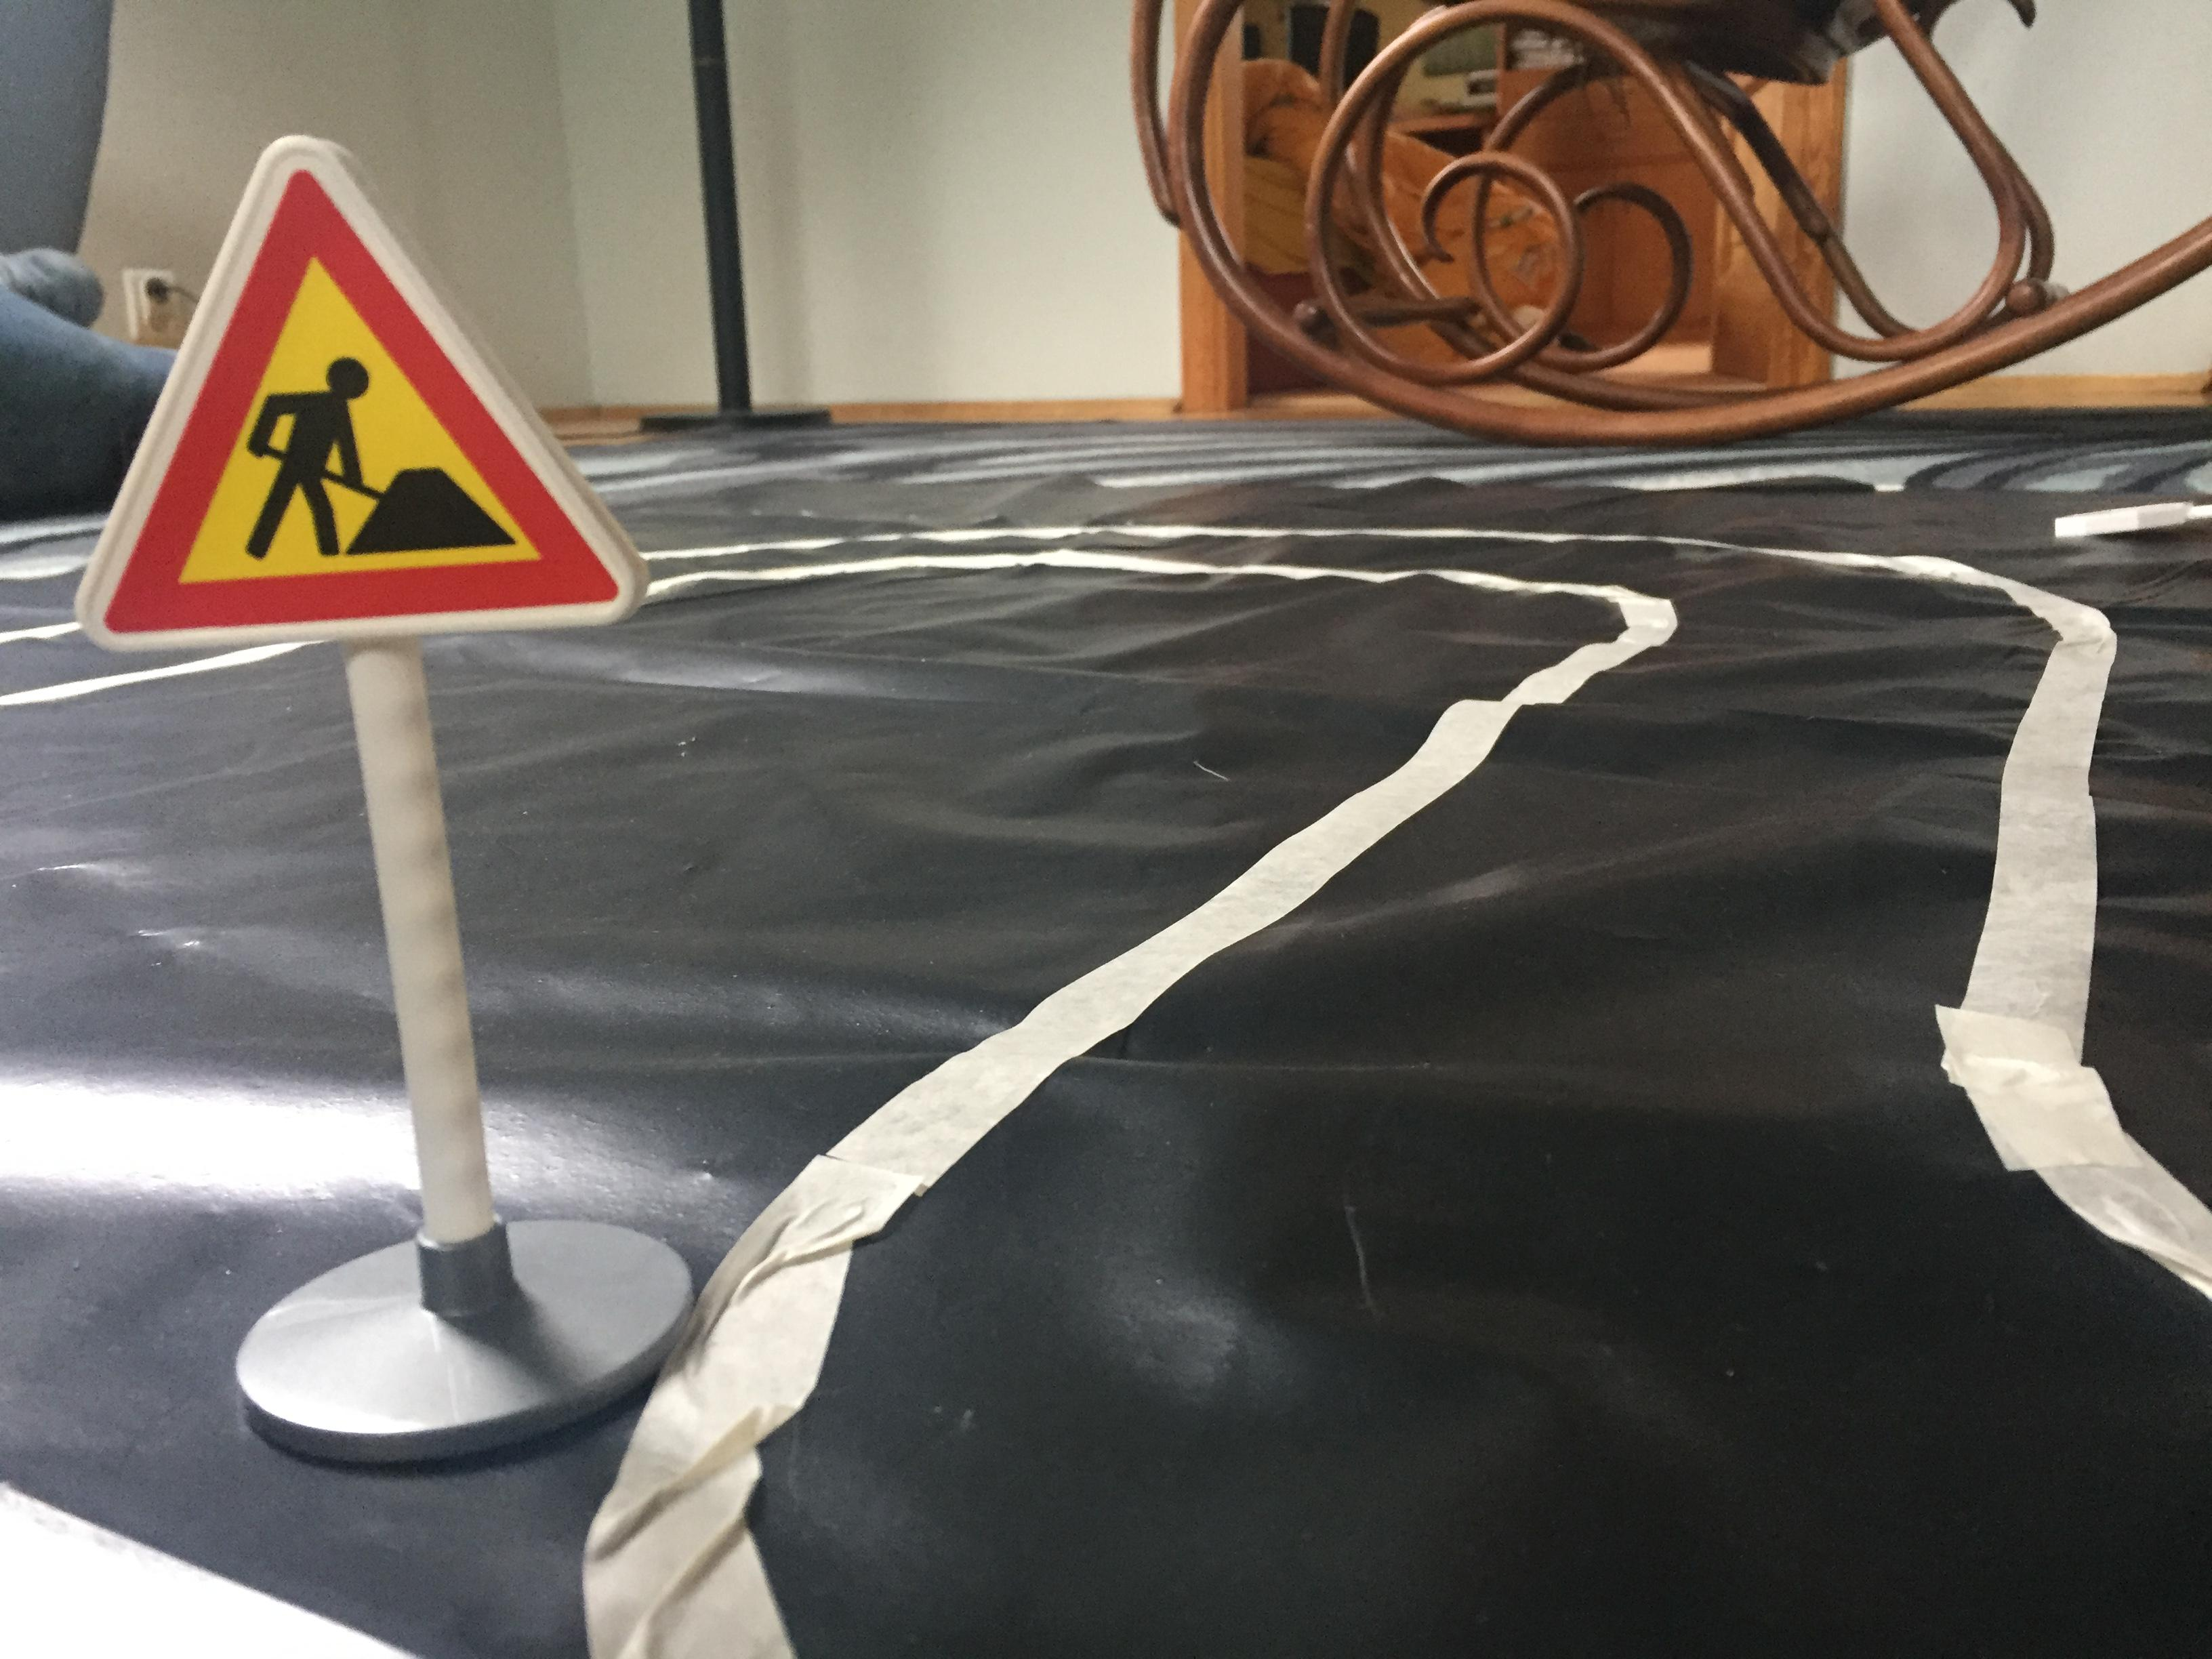work: (66, 122, 660, 666)
